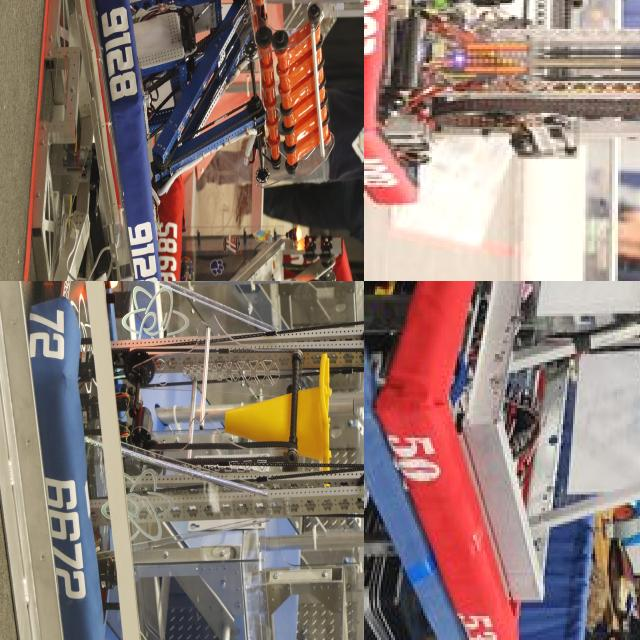FRC-Robots: (34, 281, 364, 640), (384, 281, 640, 640), (90, 0, 336, 281), (364, 0, 640, 218), (137, 150, 364, 281)
